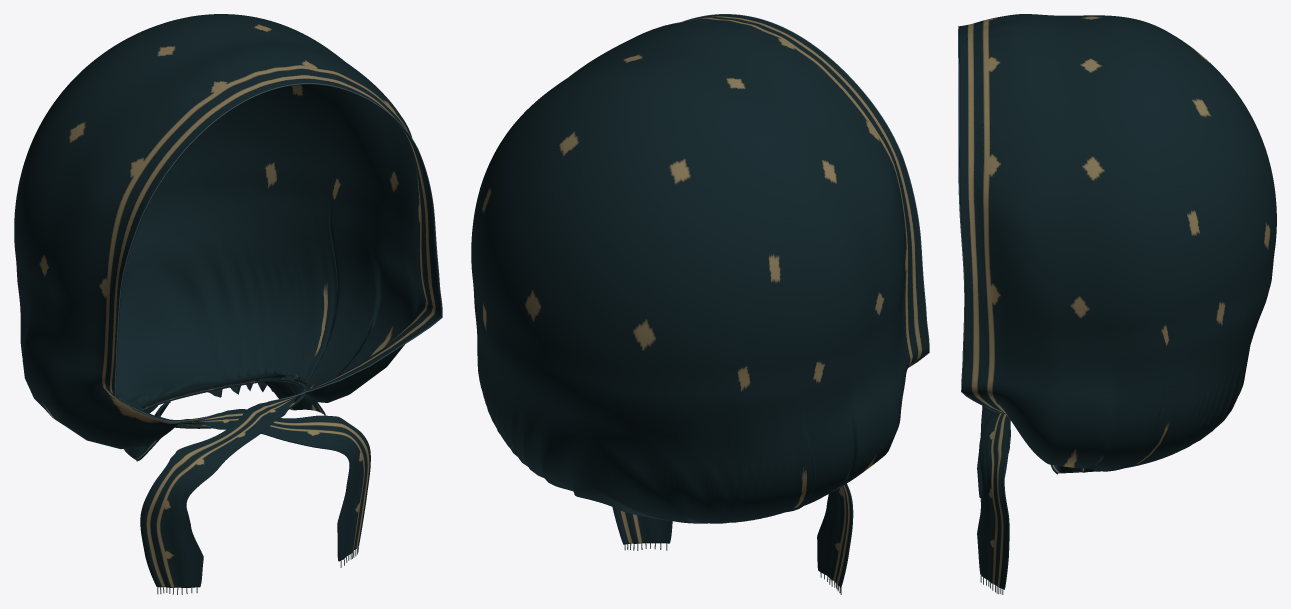
The model's file is Masculine-Masculine-flow-tank-pashmina250-headgear-7d17809e.glb.
3 views of the same model, side by side, from view 1: azimuth 30°, elevation 25°; view 2: azimuth 150°, elevation 25°; view 3: azimuth 270°, elevation 25° (orthographic). The views are drawn at different scales.
Parts seen in each view (by area): view 1: 226 headgear / Headwear / continuous woven pashmina239, 226 headgear / Headwear / face edge239; view 2: 226 headgear / Headwear / continuous woven pashmina239, 226 headgear / Headwear / face edge239; view 3: 226 headgear / Headwear / continuous woven pashmina239, 226 headgear / Headwear / face edge239.
Part boxes in pixels (x1,y1,x2,y2): 226 headgear / Headwear / continuous woven pashmina239: [14, 14, 441, 587]; 226 headgear / Headwear / face edge239: [114, 83, 442, 422]; 226 headgear / Headwear / continuous woven pashmina239: [471, 14, 928, 587]; 226 headgear / Headwear / face edge239: [682, 14, 929, 367]; 226 headgear / Headwear / continuous woven pashmina239: [959, 14, 1276, 589]; 226 headgear / Headwear / face edge239: [958, 26, 1005, 414].
Size of the model in its own units: 0.9061 by 1.24 by 0.6906.
3 materials, 1 textured.
